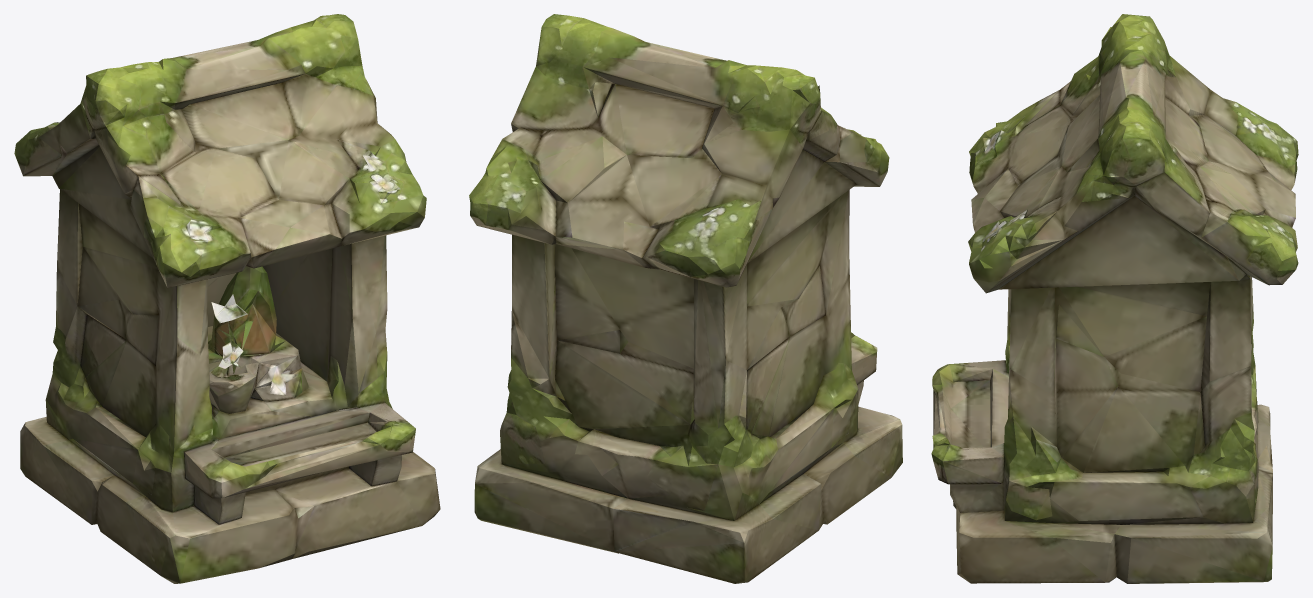
Rendered from shrine.glb.
3 views of the same model, side by side, from view 1: azimuth 30°, elevation 25°; view 2: azimuth 150°, elevation 25°; view 3: azimuth 270°, elevation 25° (orthographic). The views are drawn at different scales.
Bounding box in the file's own units: 1.19 × 1.9 × 1.39.
1 material, 1 textured.
